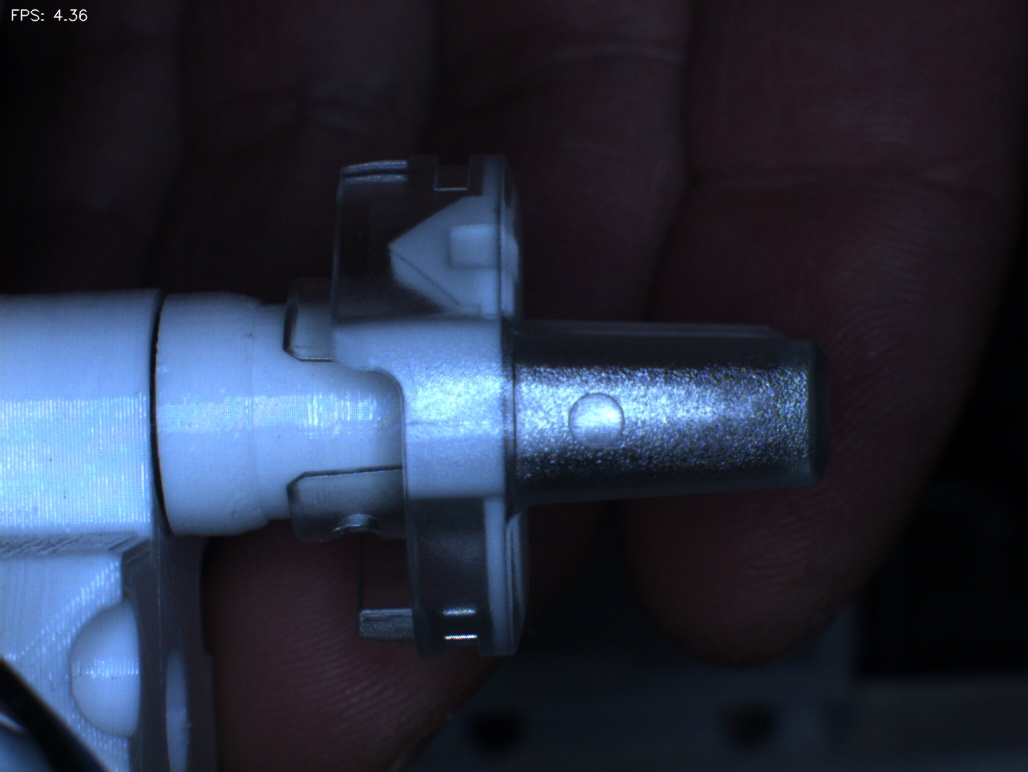DentOk: (355, 207, 441, 313)
